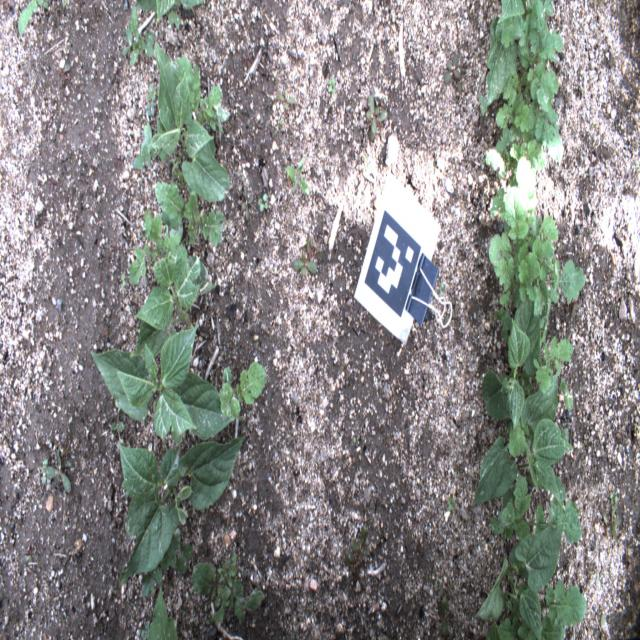crop: (116, 428, 248, 588), (90, 324, 234, 445), (131, 42, 230, 202), (471, 375, 575, 507), (474, 523, 562, 639), (134, 242, 219, 362), (482, 296, 541, 427), (477, 0, 524, 116), (136, 0, 202, 33), (142, 593, 180, 637)
weed: (485, 158, 587, 316), (482, 0, 564, 175), (485, 576, 587, 640), (191, 545, 266, 632), (490, 477, 582, 545), (155, 184, 229, 247), (129, 209, 184, 285), (173, 57, 229, 130), (140, 529, 193, 597), (221, 361, 269, 419), (534, 338, 578, 392), (41, 443, 72, 500), (121, 15, 151, 67), (434, 575, 456, 638), (365, 94, 391, 147), (17, 0, 47, 41), (442, 48, 465, 98), (283, 160, 312, 198), (346, 523, 372, 565), (290, 242, 318, 280), (603, 492, 623, 541), (237, 185, 253, 224), (279, 91, 299, 120), (594, 602, 612, 634), (54, 62, 71, 93), (257, 192, 270, 219), (443, 492, 456, 515), (332, 69, 338, 95)
